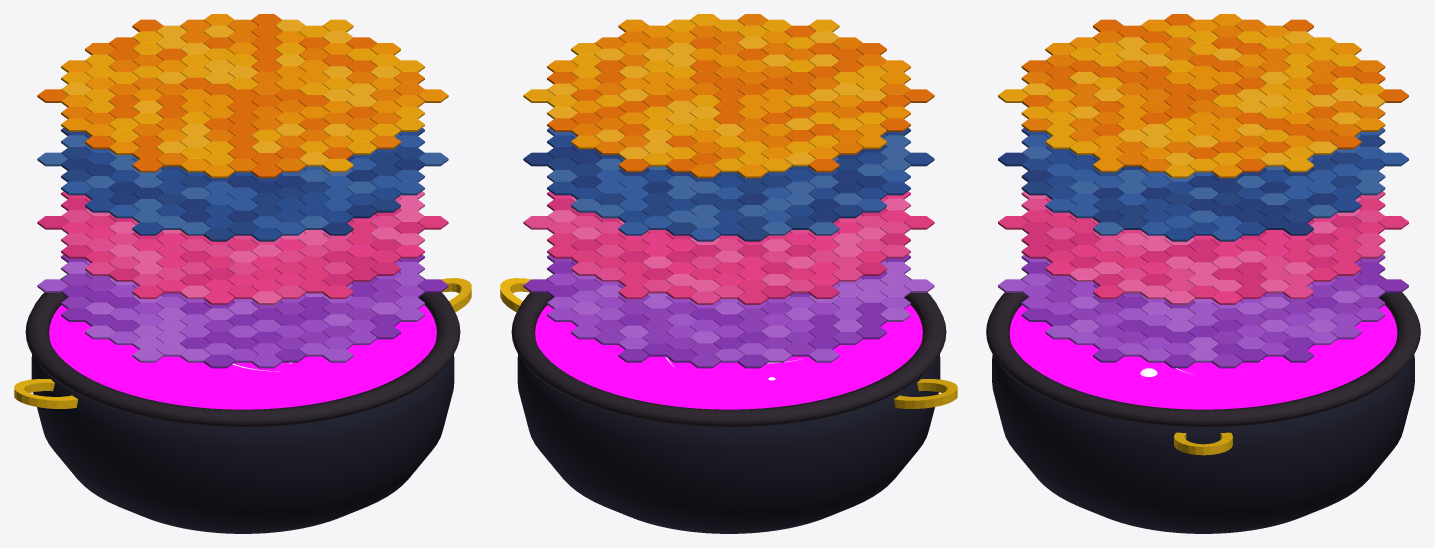
Rendered from Cauldron_Map.fbx.
3 renders of one model, left to right at view 1: azimuth 30°, elevation 25°; view 2: azimuth 150°, elevation 25°; view 3: azimuth 270°, elevation 25°, orthographic.
Parts seen in each view (by area): view 1: Cauldron_Body, Potion_Surface, Cauldron_ThickRim, Cauldron_Handle_Left, Cauldron_Handle_Right; view 2: Cauldron_Body, Potion_Surface, Cauldron_ThickRim, Cauldron_Handle_Left, Cauldron_Handle_Right; view 3: Cauldron_Body, Potion_Surface, Cauldron_ThickRim, Cauldron_Handle_Right.
Part boxes in pixels (box(x1,y1,x2,y2)): Cauldron_Body: box(31, 354, 454, 533); Potion_Surface: box(49, 305, 436, 409); Cauldron_ThickRim: box(25, 274, 460, 427); Cauldron_Handle_Left: box(14, 379, 77, 408); Cauldron_Handle_Right: box(441, 278, 471, 312); Cauldron_Body: box(517, 354, 940, 533); Potion_Surface: box(535, 305, 922, 409); Cauldron_ThickRim: box(511, 274, 946, 427); Cauldron_Handle_Left: box(894, 379, 957, 408); Cauldron_Handle_Right: box(500, 278, 530, 312); Cauldron_Body: box(992, 355, 1414, 533); Potion_Surface: box(1009, 305, 1397, 409); Cauldron_ThickRim: box(986, 274, 1420, 427); Cauldron_Handle_Right: box(1174, 432, 1232, 455).
Bounding box in the file's own units: 47.8 × 39.1 × 39.8.
